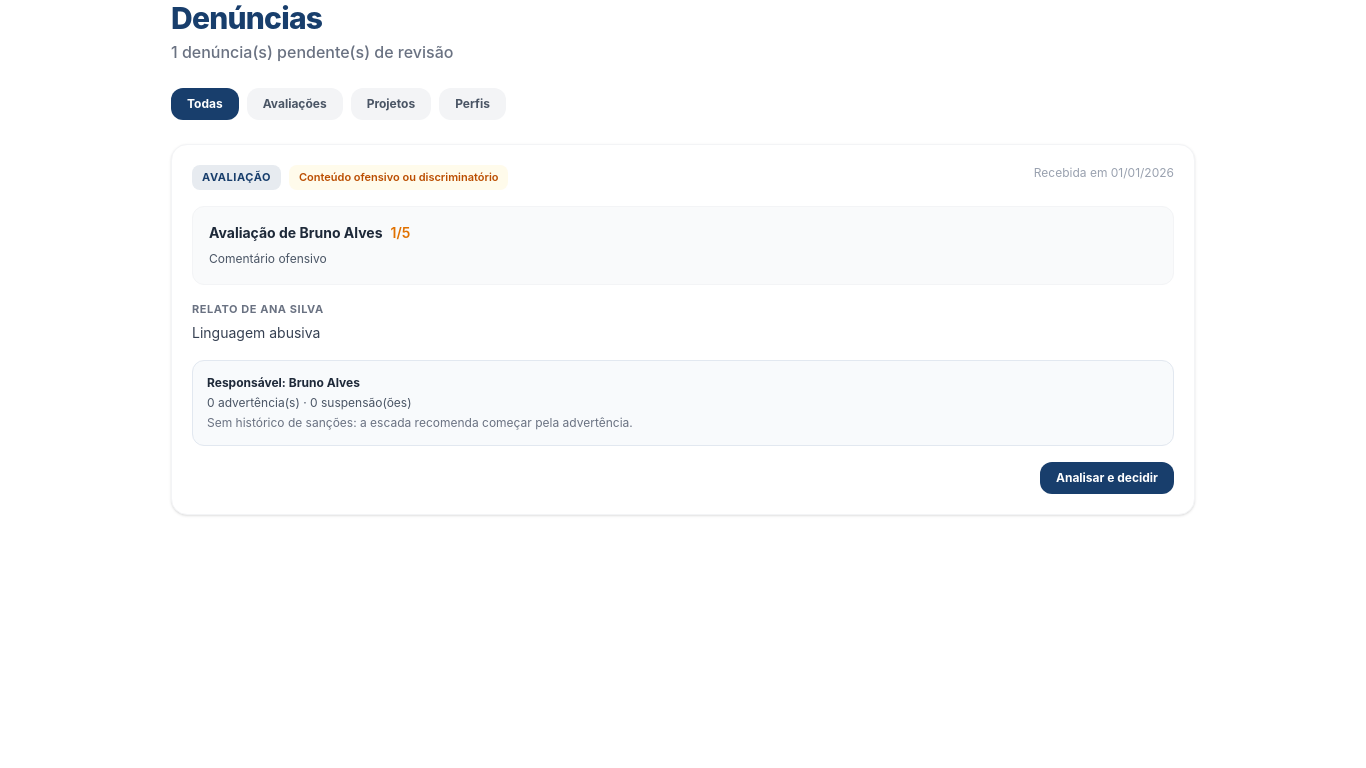
Scenario: AdminDenuncias › arquiva uma denúncia sem exigir justificativa
Expected: the text "Avaliação de Bruno Alves" is shown, x1=209 y1=224 x2=382 y2=240
Click the button "Analisar e decidir". click: (1107, 478)
box: x1=1040 y1=462 x2=1174 y2=494
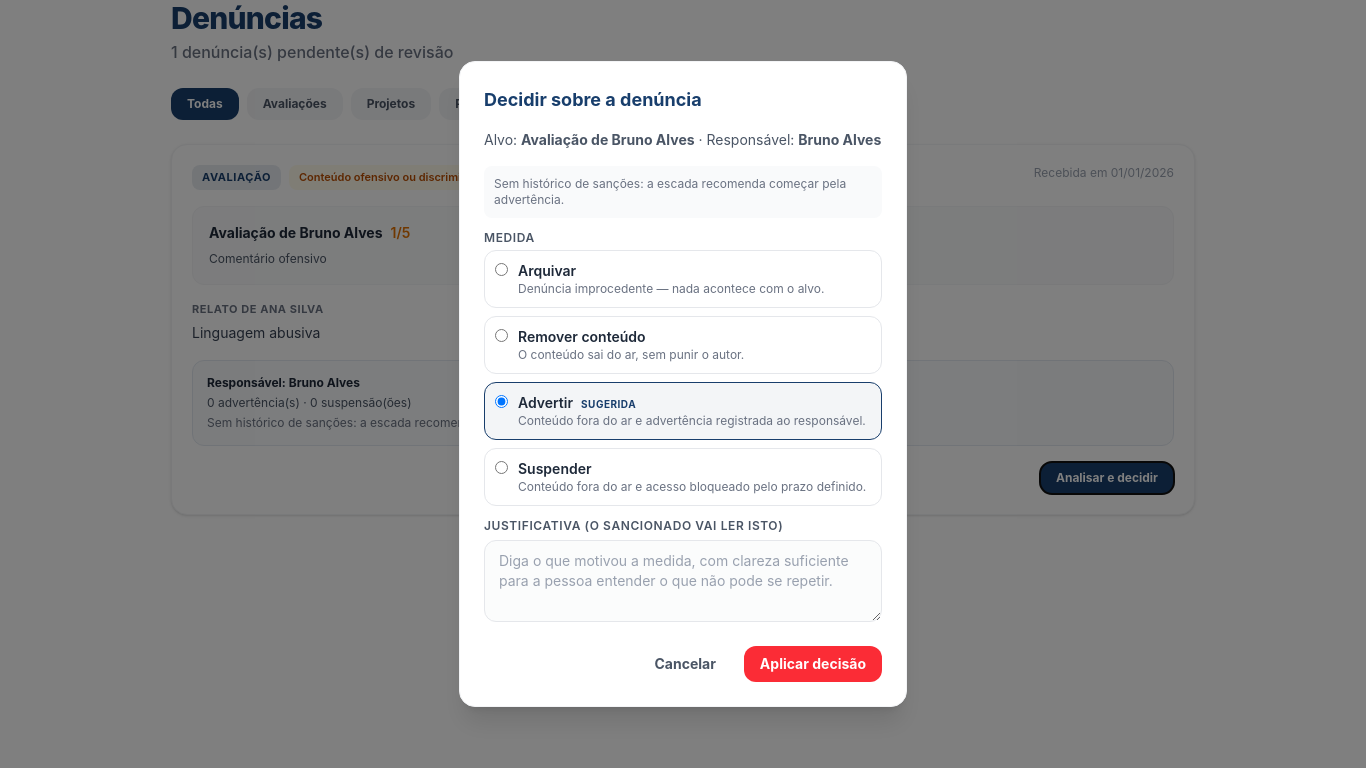
Expected: the dialog is shown
Click the radio button labelled "Arquivar Denúncia improcedente — nada acontece com o alvo.". click: (502, 270)
box: x1=495 y1=263 x2=508 y2=276
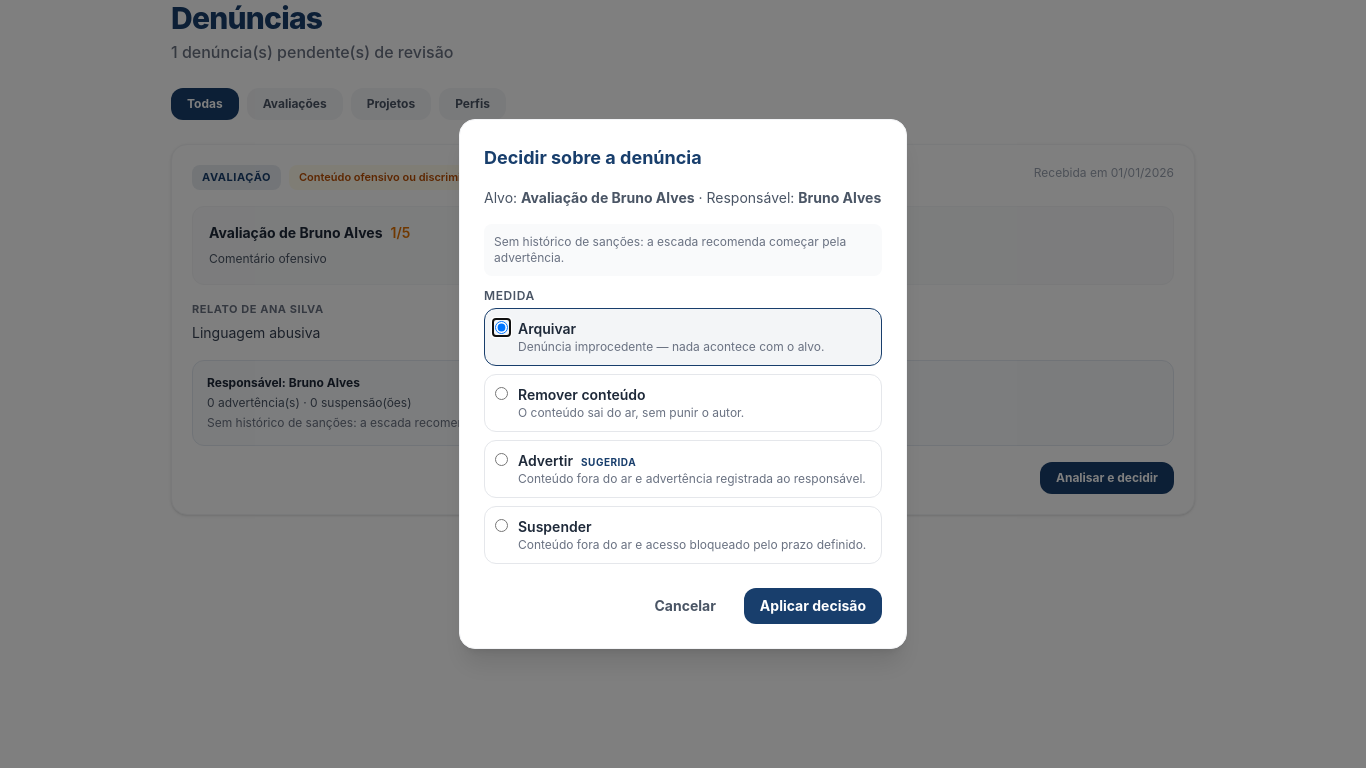
Click the button "Aplicar decisão". click: (813, 606)
box: x1=744 y1=588 x2=882 y2=624
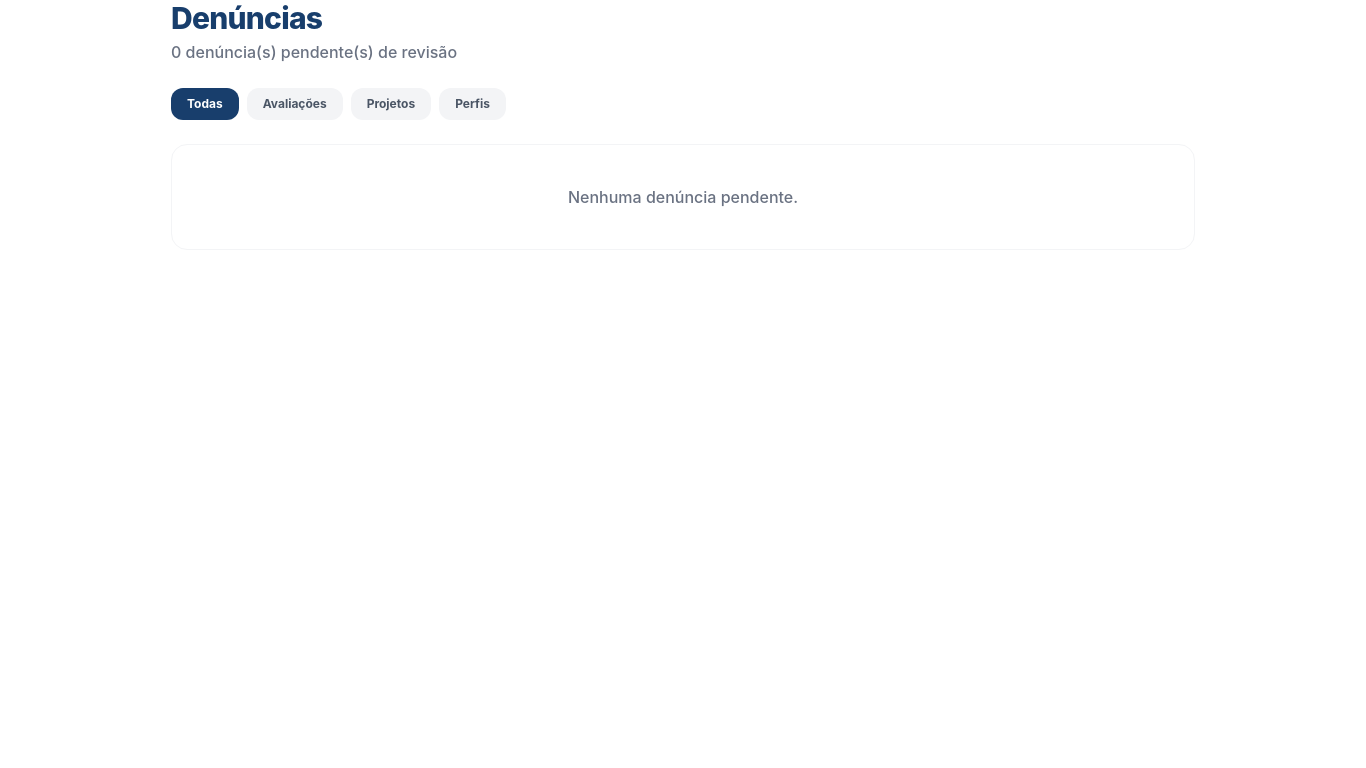
Expected: the text "Nenhuma denúncia pendente." is shown, x1=171 y1=144 x2=1195 y2=250
